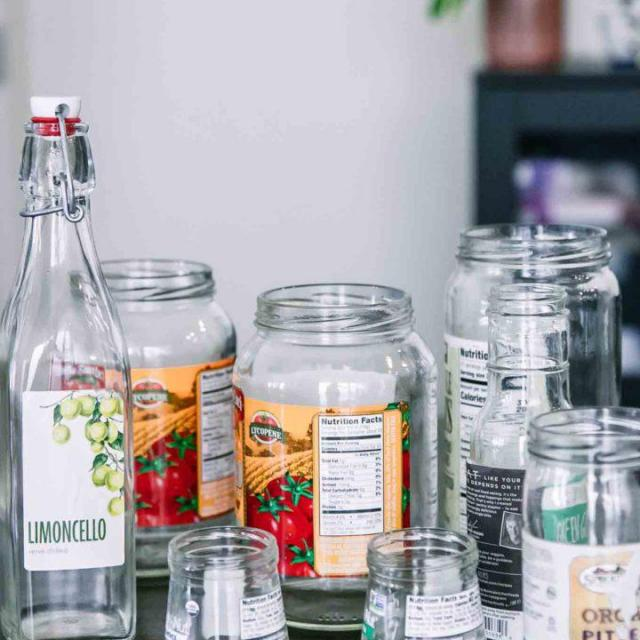non-organic waste: (3, 90, 142, 640), (244, 281, 438, 528), (365, 520, 373, 547)
